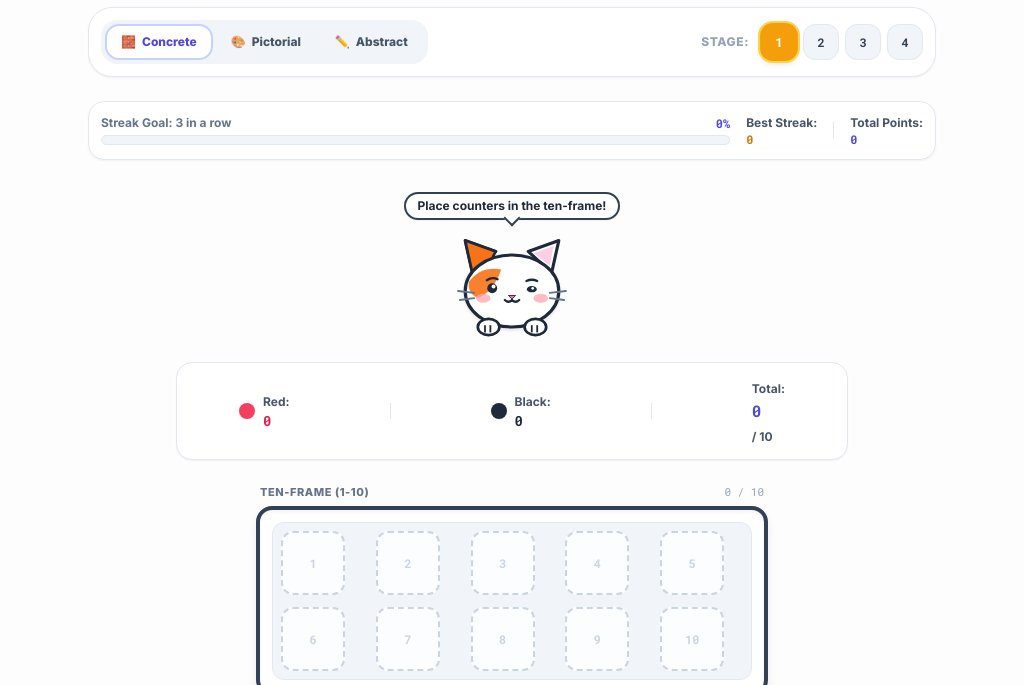
AppFlowChallenger: End-to-End User Flow & Adversarial Stress Verification › 1. CPA Stage and Mode Navigation Integration › transitions cleanly through all CPA stages (1 -> 2 -> 3 -> 4) in Concrete mode
// Switch to Stage 2 (still capacity 10)
Click the button named "stage 2" at point(821, 42), box [803,24,839,60]
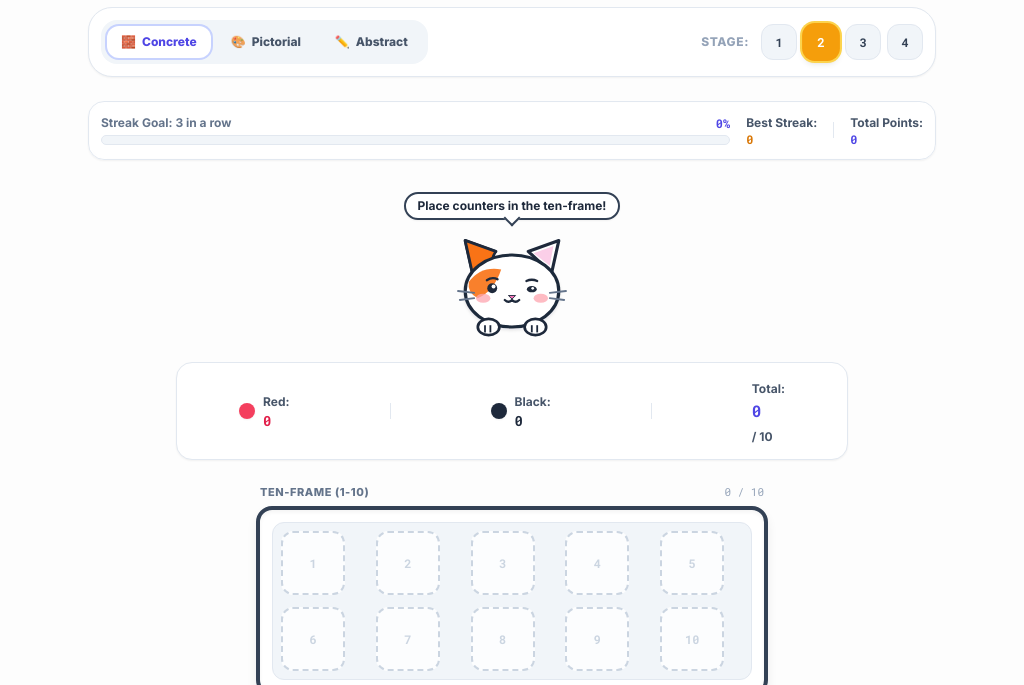
Now the button named "stage 2" is pressed, box [802,23,840,60]
// Switch to Stage 3 (capacity expands to 20)
Click the button named "stage 3" at point(863, 42), box [845,24,881,60]
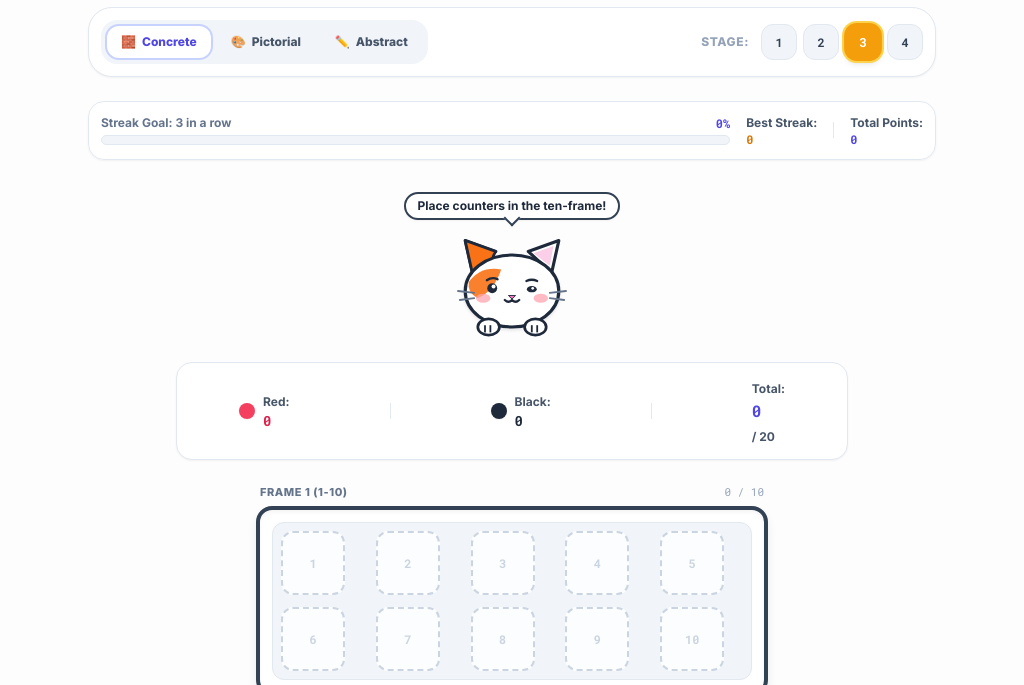
Now the button named "stage 3" is pressed, box [844,23,882,60]
// Switch to Stage 4 (mastery, capacity 20)
Click the button named "stage 4" at point(905, 42), box [887,24,923,60]
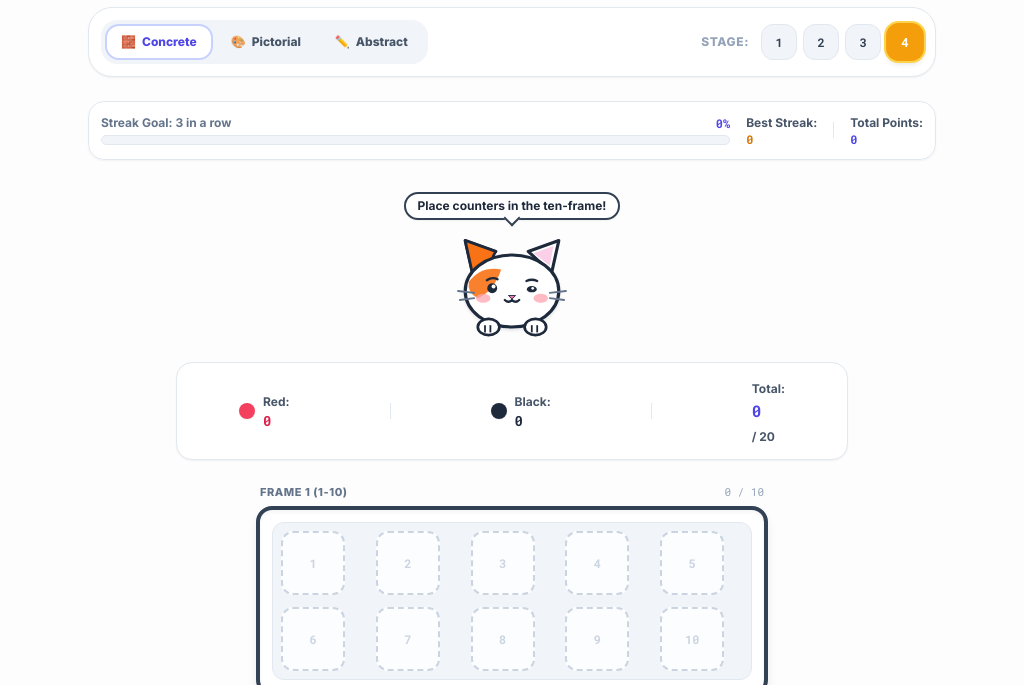
Now the button named "stage 4" is pressed, box [886,23,924,60]
// Switch back to Stage 1 (shrinks capacity to 10)
Click the button named "stage 1" at point(779, 42), box [761,24,797,60]
(page scrolled)
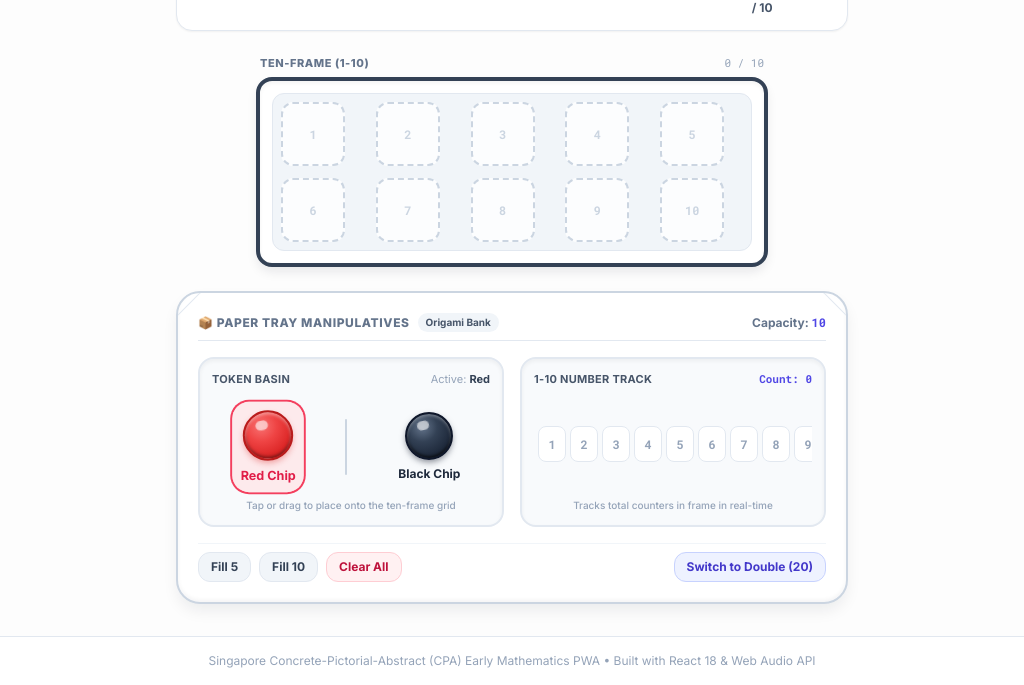
Now the text "Capacity: 10" is shown, box [752,314,826,331]
Now the number of buttons "1" is 10
